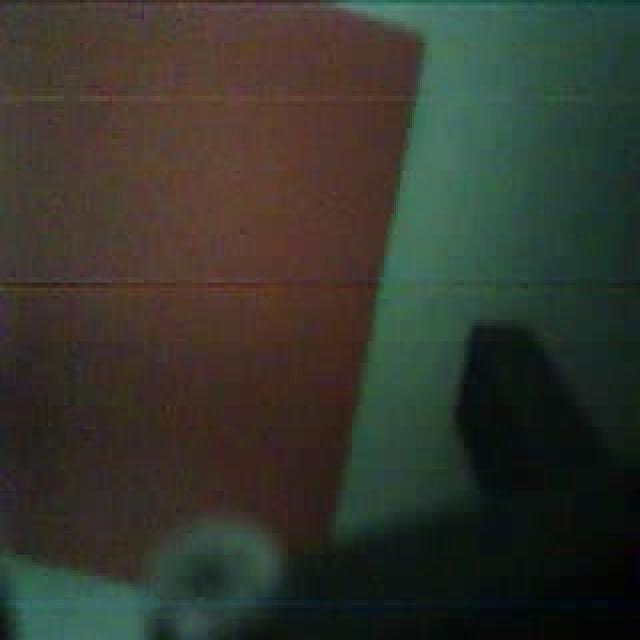red_box: (0, 6, 418, 608)
